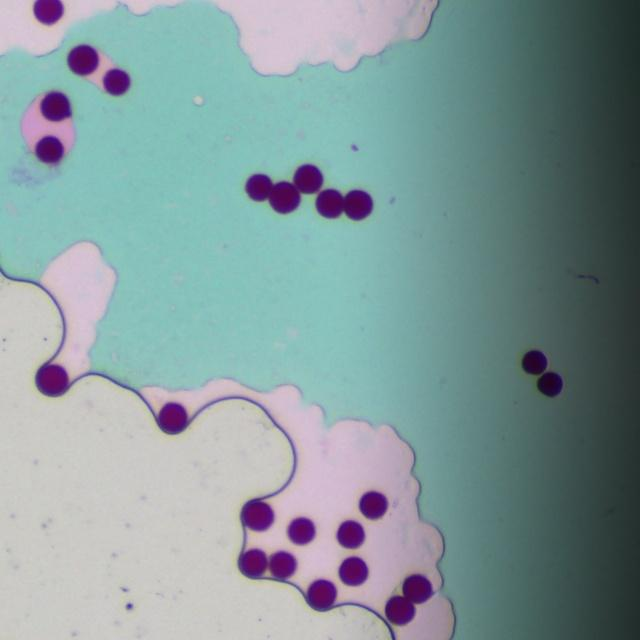viable: (269, 181, 300, 213), (36, 364, 67, 395), (242, 500, 273, 530), (40, 91, 70, 121), (344, 189, 372, 220), (307, 580, 336, 609), (158, 403, 187, 432), (68, 45, 97, 74), (403, 574, 432, 603), (294, 164, 323, 193), (385, 596, 414, 624), (339, 557, 367, 585), (336, 520, 364, 548), (316, 189, 343, 218), (35, 136, 63, 163), (269, 551, 296, 579), (103, 68, 130, 95), (245, 174, 272, 201), (360, 492, 387, 518), (240, 549, 266, 576), (34, 0, 63, 24), (288, 518, 314, 543), (537, 372, 562, 396), (522, 350, 547, 374)
